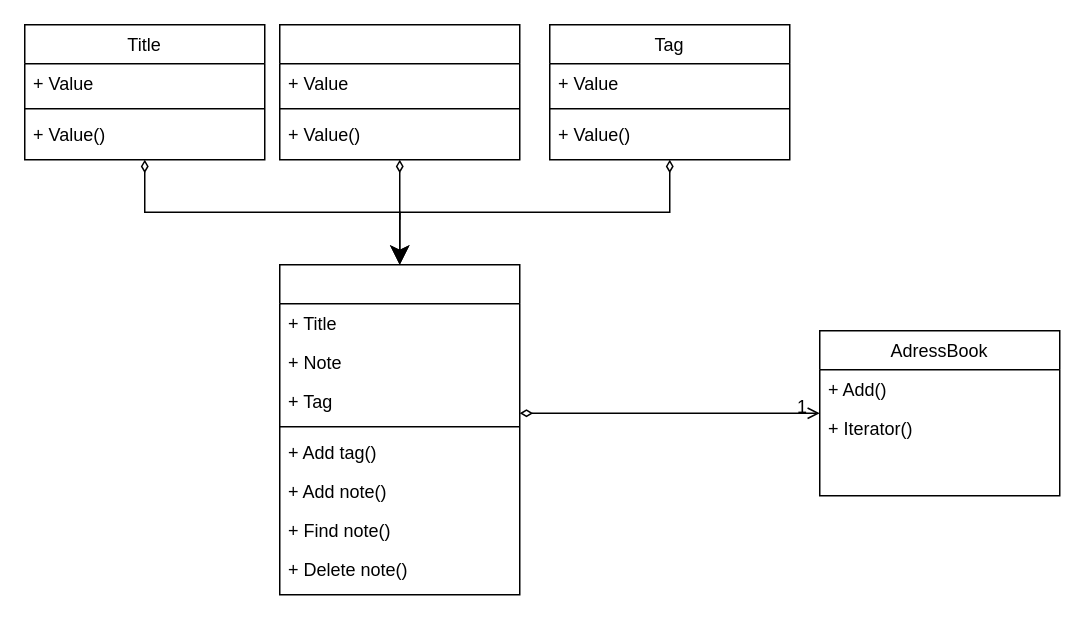
This 1085x620 diagram has some shape labels left out. The box of each missing label's shape, as (x1, y1, x2, y2) in pixels:
Note: (278, 23, 520, 160)
Record: (278, 263, 520, 595)
